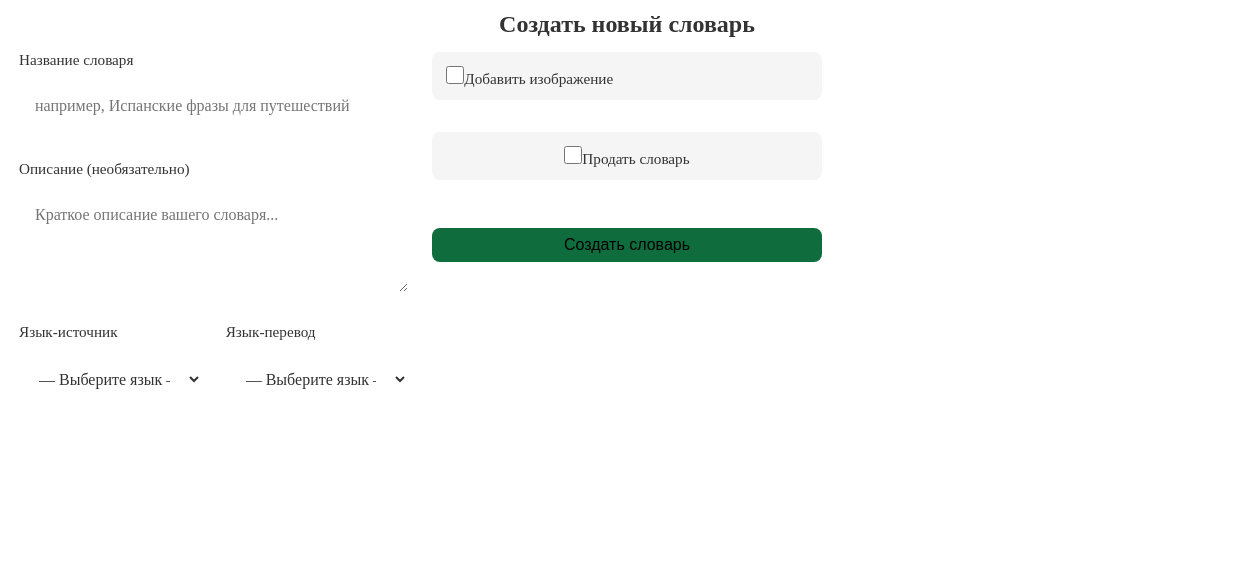
it: AddDict Component › успешно создает словарь
The image size is (1252, 568).
// Заполняем форму
Step 1. Type "Test Dictionary" into the field labelled "Название словаря" → [214, 106], box x1=19 y1=83 x2=408 y2=129
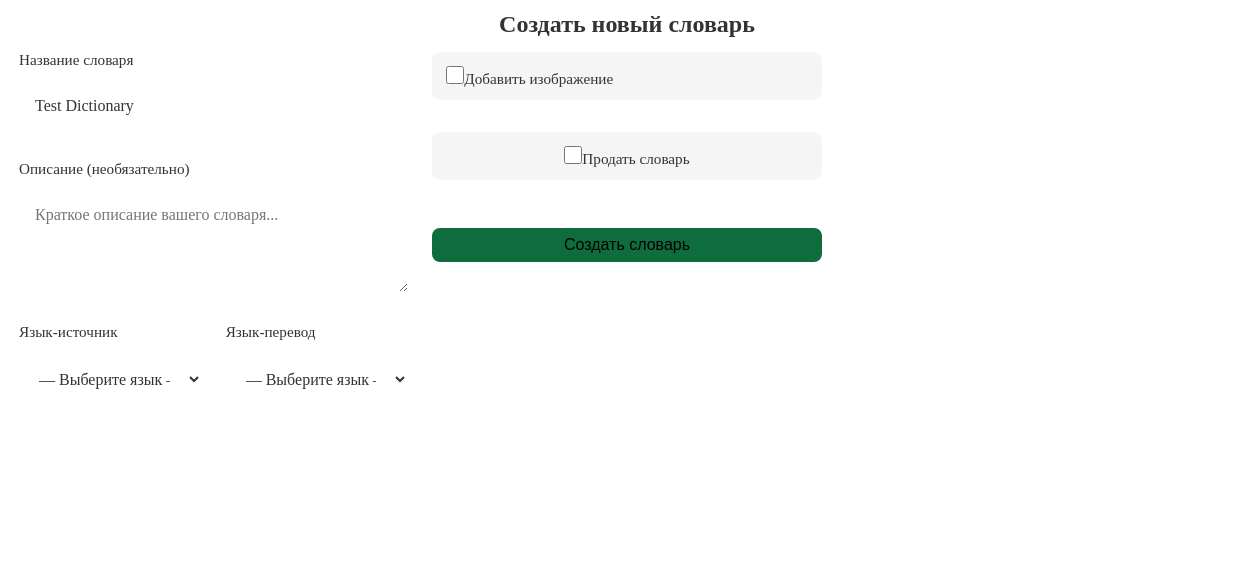
Step 2. Type "Test description" into the text box labelled "Описание (необязательно)" → [214, 242], box x1=19 y1=192 x2=408 y2=292
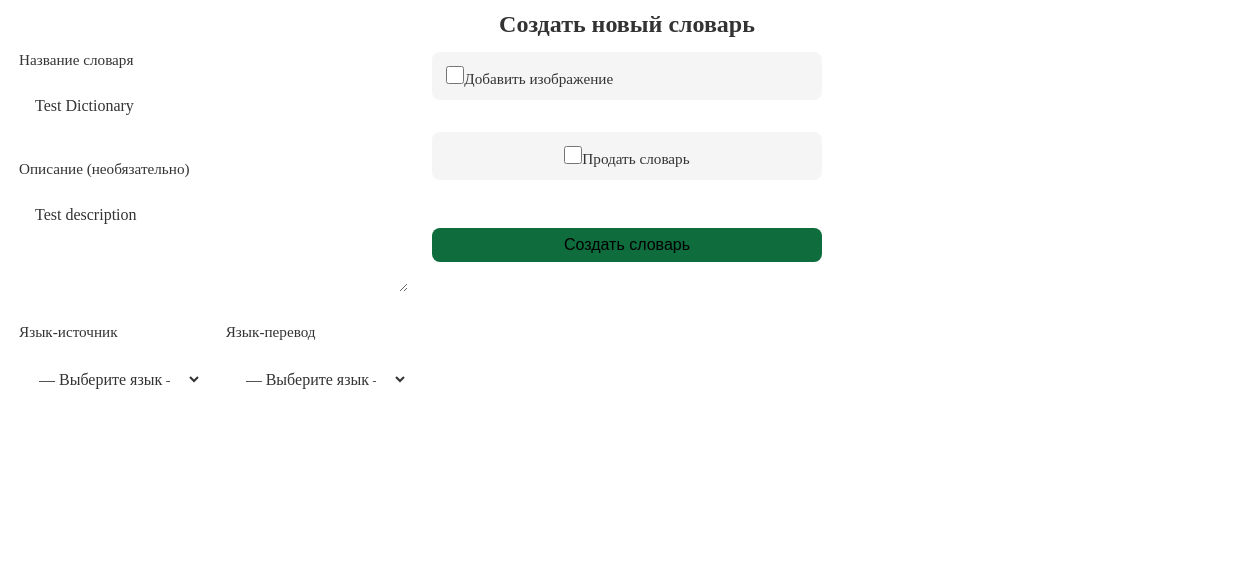
Step 3. Select "Английский" in the dropdown labelled "Язык-источник" → [110, 379], box x1=19 y1=356 x2=202 y2=403
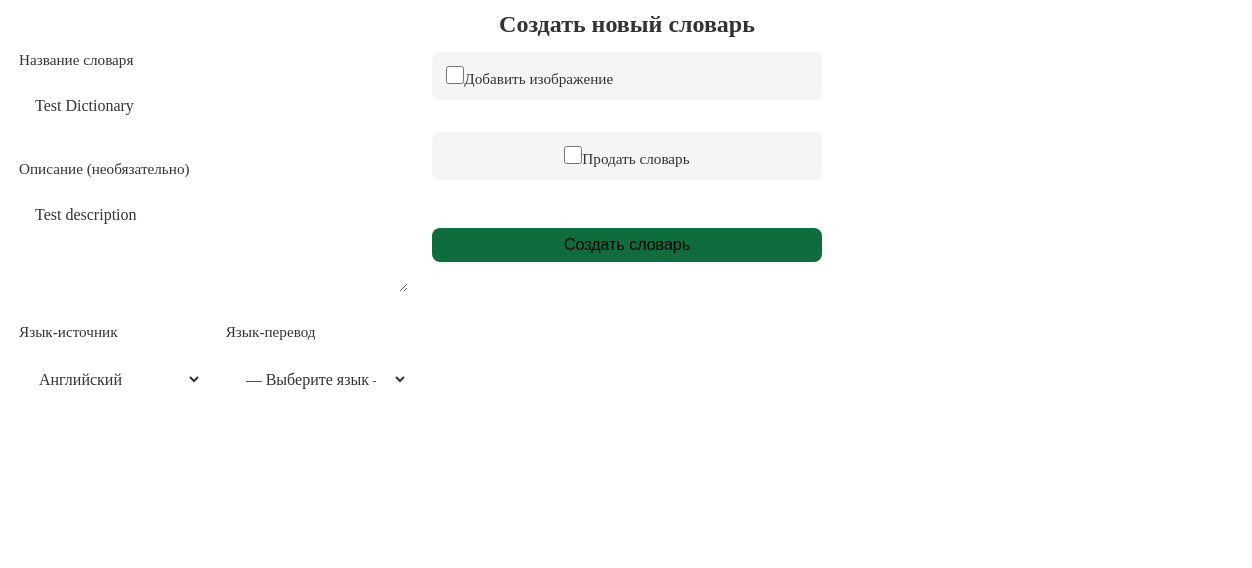
Step 4. Select "Русский" in the dropdown labelled "Язык-перевод" → [317, 379], box x1=226 y1=356 x2=408 y2=403
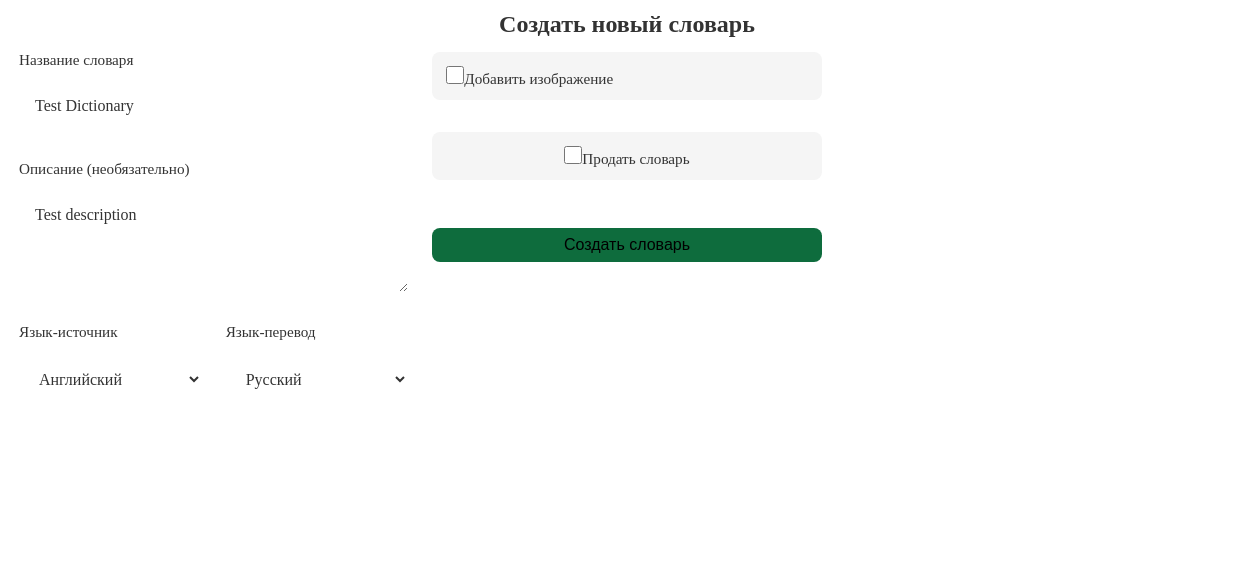
Step 5. Click the button "Создать словарь" → [627, 245], box x1=432 y1=228 x2=822 y2=262
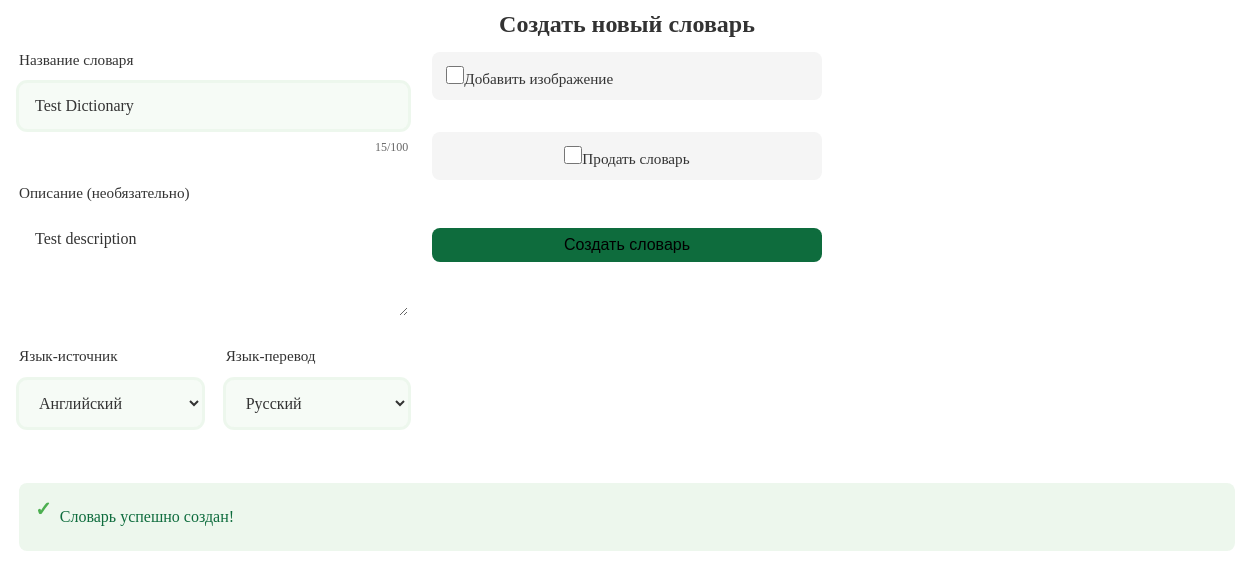
Check: the text "✓ Словарь успешно создан!" is shown, box x1=19 y1=483 x2=1235 y2=551
